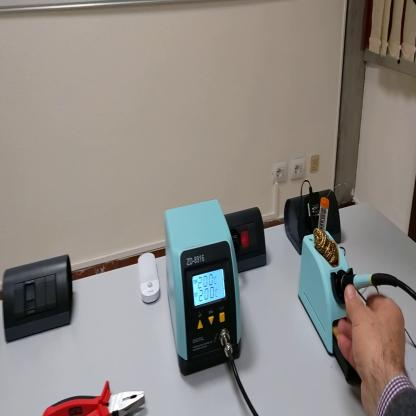hand: (338, 286, 408, 400)
pliers: (43, 377, 146, 415)
socket: (286, 188, 344, 259), (226, 205, 269, 273)
welder base: (303, 187, 364, 387)
welder station: (165, 198, 244, 376)
